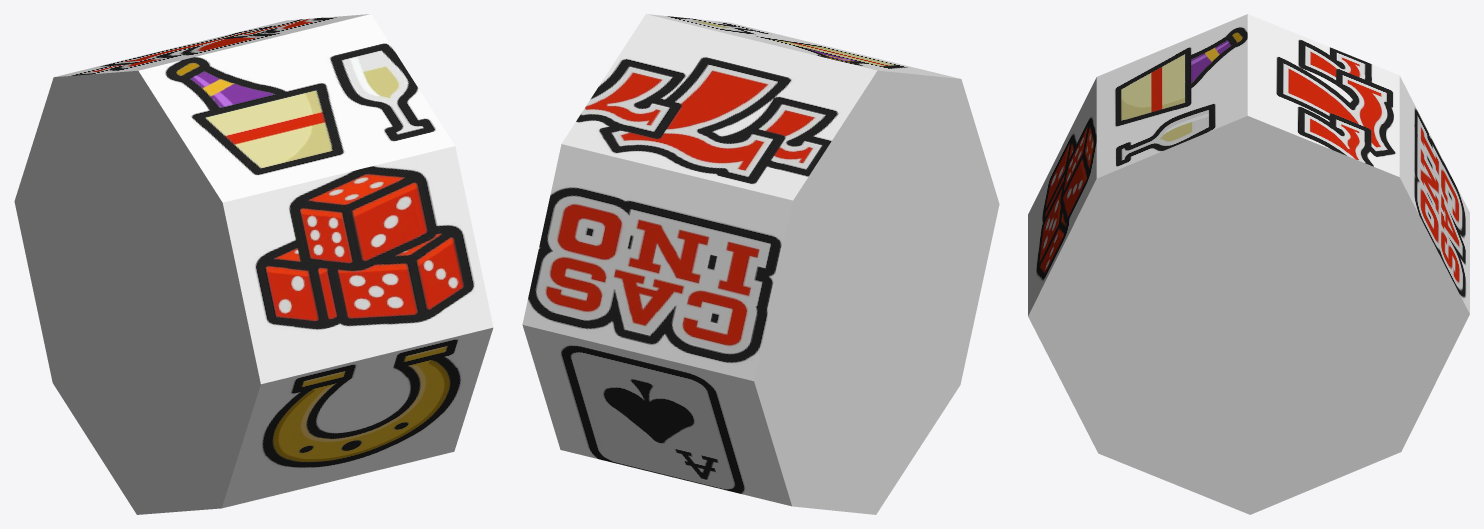
Rendered from roll.fbx.
The picture shows the model from 3 angles, left to right: view 1: azimuth 30°, elevation 25°; view 2: azimuth 150°, elevation 25°; view 3: azimuth 270°, elevation 25°; orthographic projection. The views are drawn at different scales.
Parts seen in each view (by area): view 1: Cube; view 2: Cube; view 3: Cube.
Part boxes in pixels (bbox=[...]): Cube: bbox=[14, 14, 493, 514]; Cube: bbox=[522, 14, 999, 514]; Cube: bbox=[1028, 14, 1469, 514].
Bounding box in the file's own units: 193 × 353 × 355.
